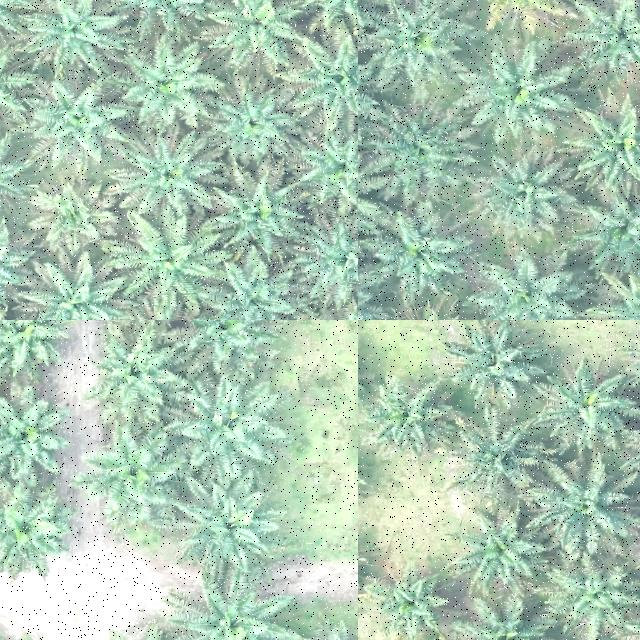Ganoderma: (484, 0, 560, 16)
